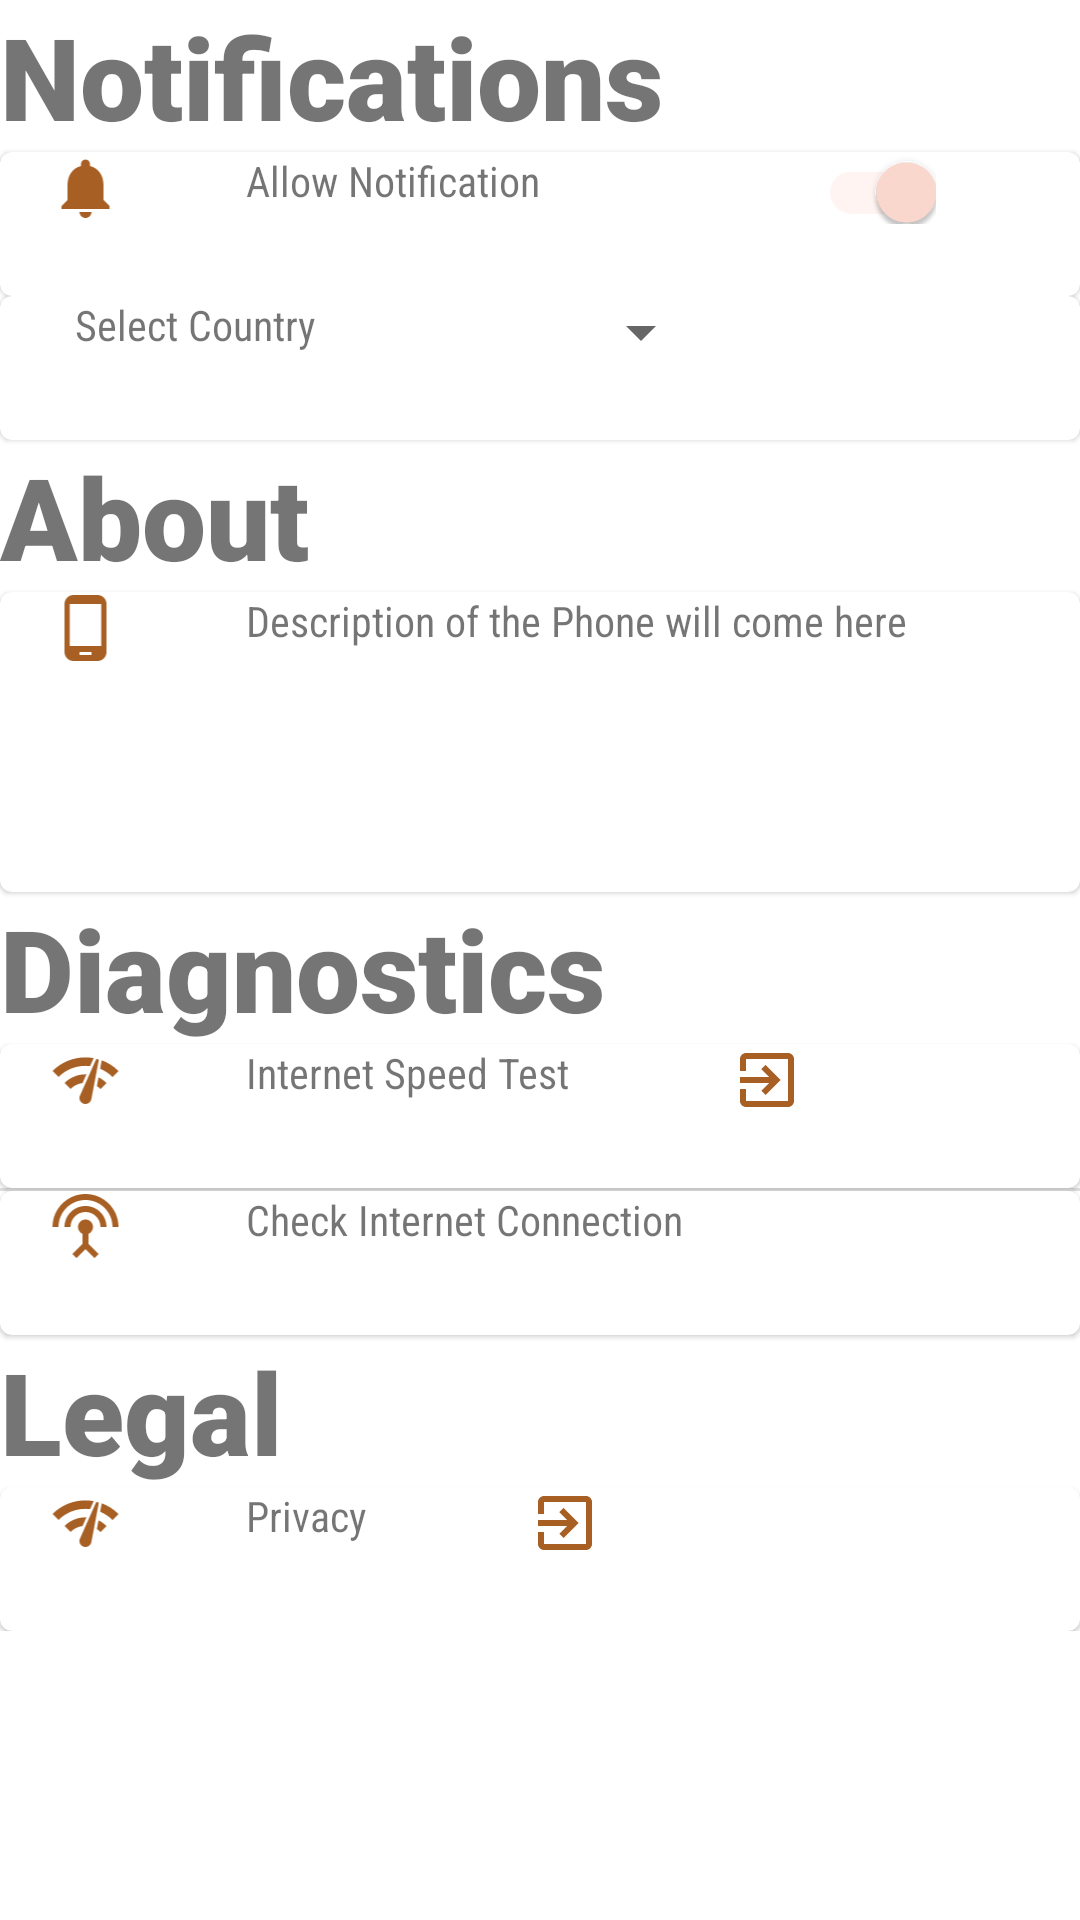

Point at icon controls on the screen. Image size 1080 × 1920, points as point (x, y).
exit to app: point (767, 1080), point (565, 1523)
network check: point (85, 1080), point (85, 1523)
settings input antenna: point (85, 1226)
